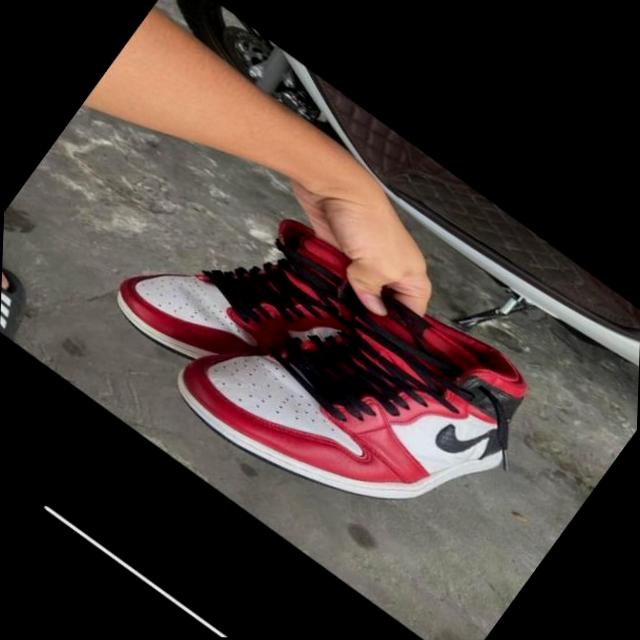nike_fake_jordan: (152, 197, 564, 586), (96, 150, 405, 445)
